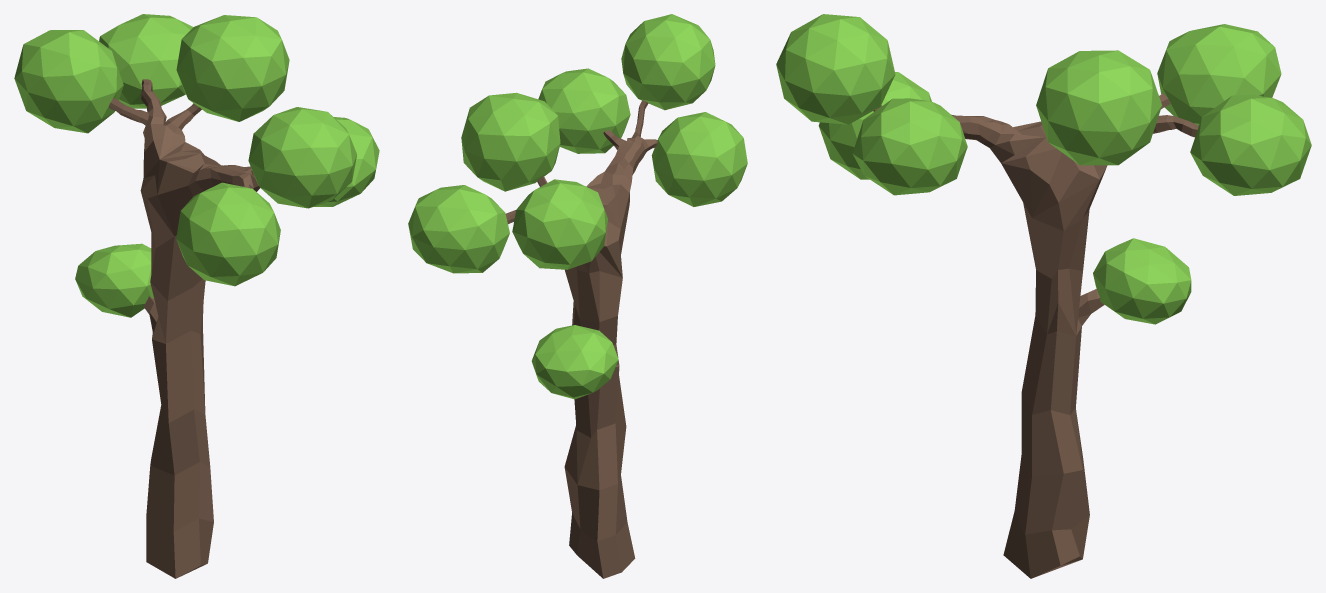
File: tree_1_2.fbx
3 renders of one model, left to right at view 1: azimuth 30°, elevation 25°; view 2: azimuth 150°, elevation 25°; view 3: azimuth 270°, elevation 25°, orthographic. The views are drawn at different scales.
Visible parts, largest first — view 1: Cube.008, Icosphere.005, Icosphere.000, Icosphere.004, Icosphere.003, Icosphere.011, Icosphere.001, Icosphere.002; view 2: Cube.008, Icosphere.005, Icosphere.011, Icosphere.003, Icosphere.004, Icosphere.000, Icosphere.002, Icosphere.001; view 3: Cube.008, Icosphere.005, Icosphere.004, Icosphere.011, Icosphere.000, Icosphere.002, Icosphere.001, Icosphere.003.
Boxes of the visible parts, x1,y1,x2,y2 form: Cube.008: [109, 79, 259, 578]; Icosphere.005: [176, 15, 289, 121]; Icosphere.000: [14, 30, 123, 133]; Icosphere.004: [248, 107, 356, 208]; Icosphere.003: [176, 182, 280, 286]; Icosphere.011: [99, 14, 193, 108]; Icosphere.001: [75, 243, 154, 317]; Icosphere.002: [314, 117, 379, 206]; Cube.008: [505, 100, 657, 578]; Icosphere.005: [461, 92, 560, 191]; Icosphere.011: [408, 185, 509, 273]; Icosphere.003: [651, 112, 747, 206]; Icosphere.004: [621, 14, 715, 110]; Icosphere.000: [512, 179, 608, 269]; Icosphere.002: [538, 68, 630, 153]; Icosphere.001: [531, 325, 618, 399]; Cube.008: [873, 93, 1198, 578]; Icosphere.005: [1036, 50, 1161, 165]; Icosphere.004: [776, 14, 895, 124]; Icosphere.011: [1190, 94, 1311, 195]; Icosphere.000: [1157, 24, 1281, 125]; Icosphere.002: [852, 98, 967, 195]; Icosphere.001: [1093, 238, 1191, 324]; Icosphere.003: [818, 72, 931, 179].
Size of the model in its own units: 193 by 399 by 463.
